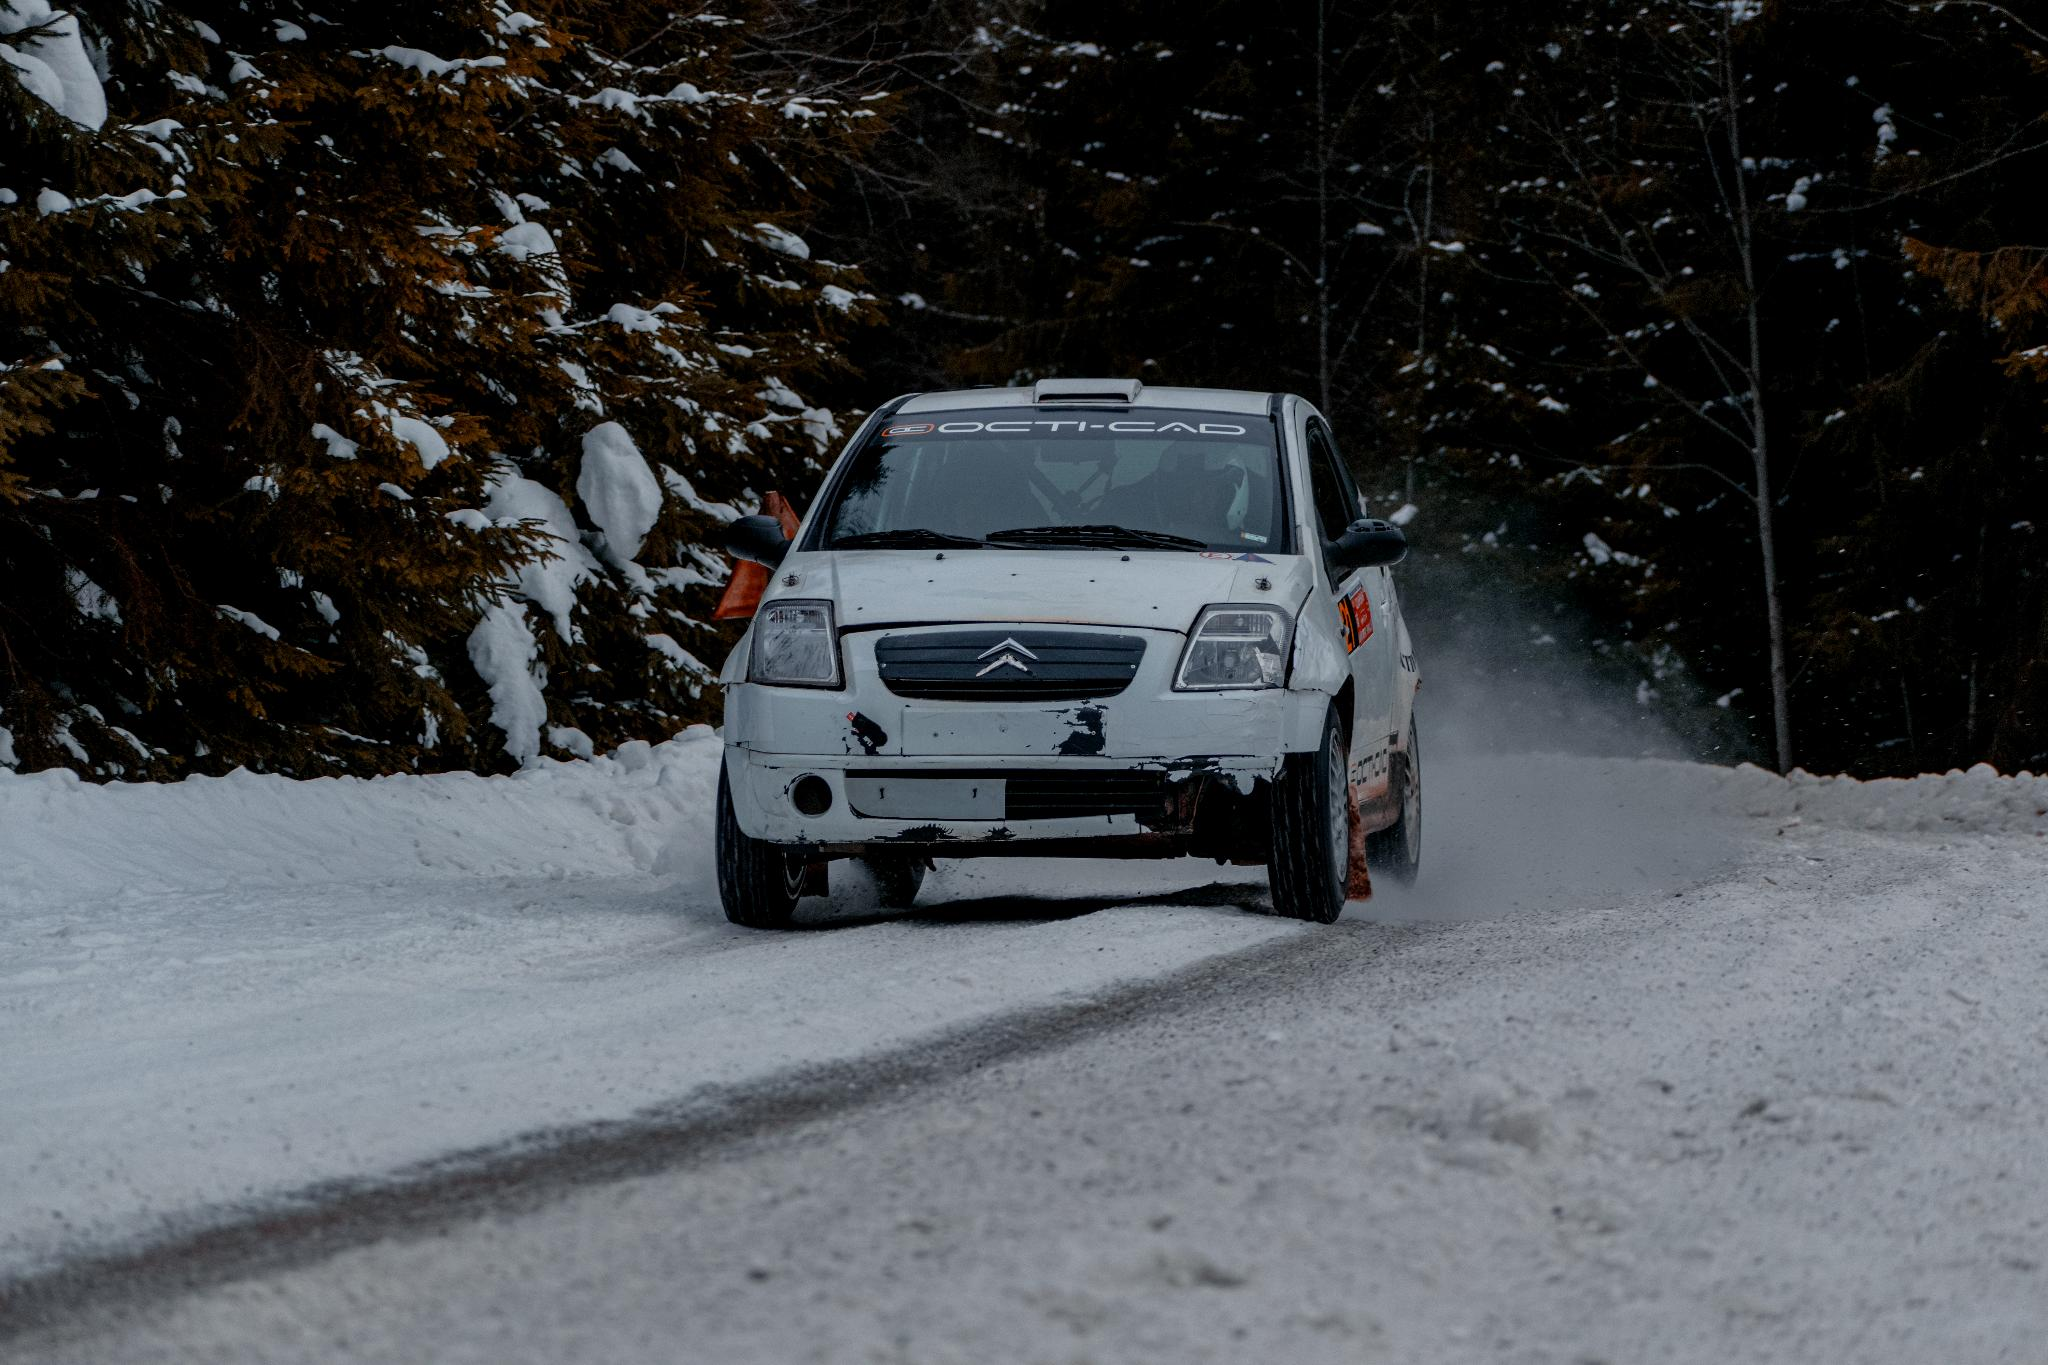Citroen: (961, 625, 1052, 698)
